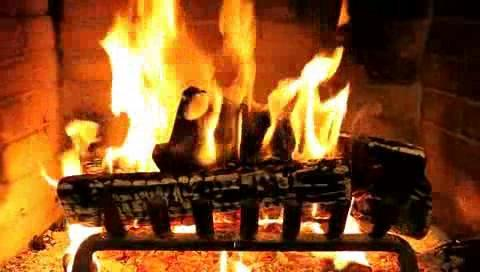fire: (88, 10, 352, 167)
